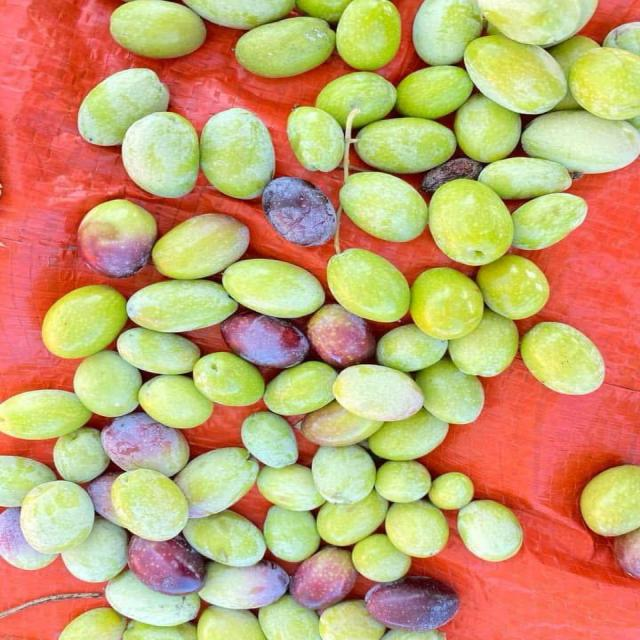Healthy: (464, 36, 566, 114), (521, 111, 639, 174), (428, 179, 513, 266), (77, 68, 166, 145), (201, 108, 275, 199), (580, 465, 639, 579), (123, 113, 200, 198), (152, 213, 248, 279), (233, 17, 335, 79), (42, 286, 127, 359), (340, 171, 427, 242), (78, 199, 156, 277), (328, 249, 410, 323), (521, 322, 604, 395), (174, 447, 259, 518), (222, 259, 324, 318), (126, 280, 236, 333), (109, 0, 205, 59), (110, 469, 188, 541), (101, 413, 188, 477), (355, 118, 456, 173), (20, 481, 94, 555), (105, 570, 200, 627), (411, 268, 484, 340), (332, 365, 423, 422), (261, 177, 336, 246), (569, 47, 639, 120), (365, 578, 459, 631), (221, 312, 308, 368), (449, 308, 518, 377), (476, 255, 549, 320), (414, 358, 484, 425), (183, 511, 266, 567), (454, 93, 520, 163), (336, 0, 401, 71), (413, 0, 484, 65), (315, 72, 396, 128), (74, 350, 141, 417), (129, 536, 205, 595), (0, 391, 91, 440), (198, 561, 289, 610), (61, 518, 128, 582), (513, 193, 588, 250), (308, 304, 375, 367), (316, 489, 388, 547), (369, 409, 449, 461), (291, 547, 356, 611), (396, 65, 473, 119), (116, 327, 200, 375), (458, 500, 523, 562), (264, 361, 337, 416), (193, 352, 265, 407), (140, 375, 212, 429), (300, 400, 382, 447), (478, 158, 571, 199), (287, 107, 344, 172), (313, 446, 376, 504), (386, 501, 449, 558), (0, 508, 57, 570), (377, 324, 447, 372), (242, 411, 298, 468), (258, 464, 325, 511), (264, 506, 320, 562), (53, 428, 109, 483), (0, 455, 56, 507), (352, 534, 411, 583), (259, 595, 321, 639), (319, 600, 385, 639), (375, 461, 430, 503), (197, 606, 266, 639), (58, 607, 126, 639), (428, 472, 474, 511)
